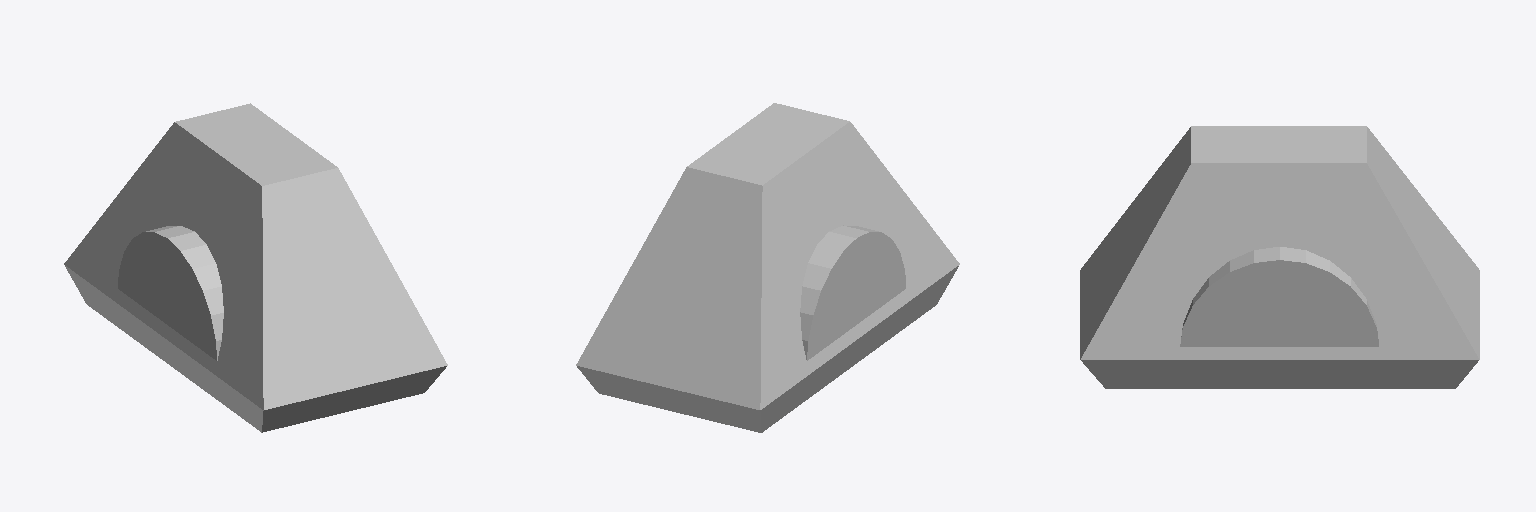
Rendered from R2D2Wheel.obj.
3 views of the same model, side by side, from view 1: azimuth 30°, elevation 25°; view 2: azimuth 150°, elevation 25°; view 3: azimuth 270°, elevation 25° (orthographic).
Parts seen in each view (by area): view 1: r2d2; view 2: r2d2; view 3: r2d2.
Boxes of the visible parts, x1=… form: r2d2: x1=64, y1=103, x2=447, y2=432; r2d2: x1=576, y1=103, x2=959, y2=432; r2d2: x1=1080, y1=126, x2=1479, y2=388.
Size of the model in its own units: 0.8031 by 0.9275 by 1.51.